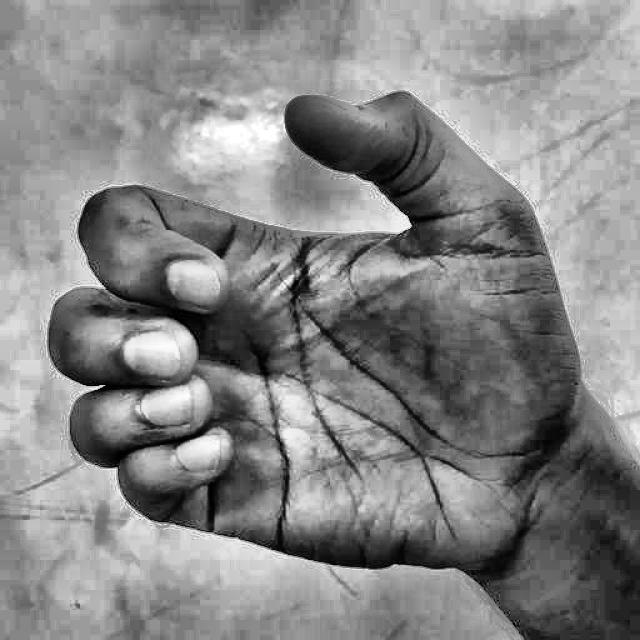Dho: (40, 61, 596, 638)
